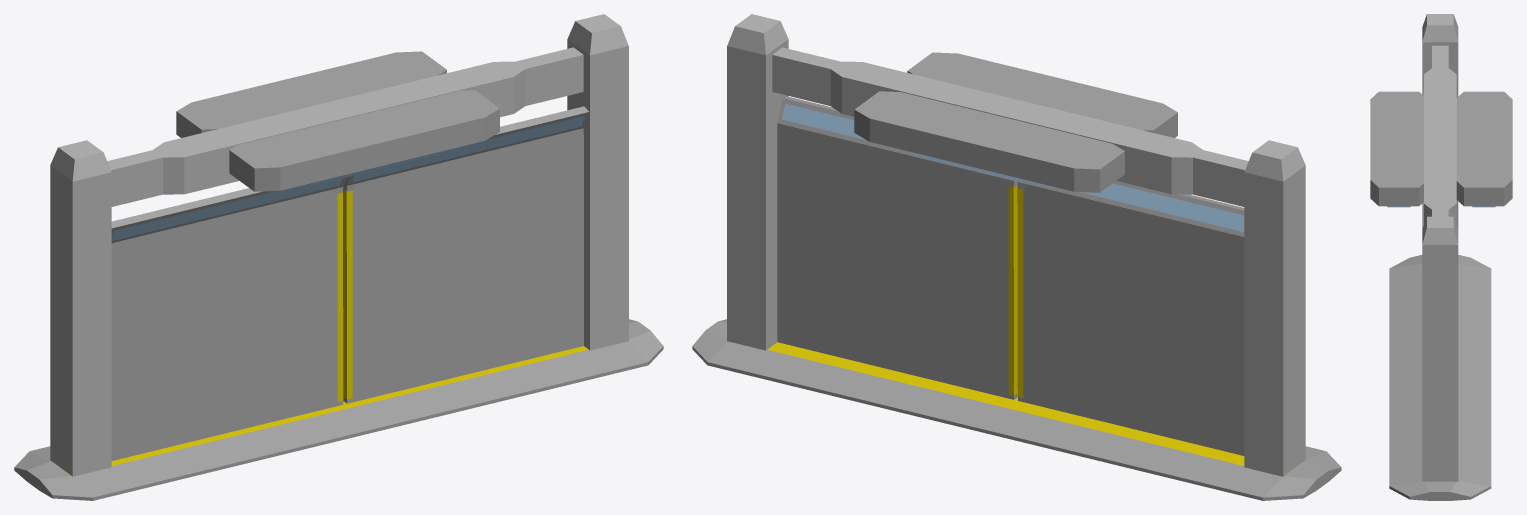
The model's file is Ограда ворота 1.fbx.
3 renders of one model, left to right at view 1: azimuth 30°, elevation 25°; view 2: azimuth 150°, elevation 25°; view 3: azimuth 270°, elevation 25°, orthographic. The views are drawn at different scales.
Visible parts, largest first — view 1: Plane.001, Plane, Cube, Cube.001, Cube.003, Cube.002, Cube.006, Cube.004; view 2: Plane.001, Plane, Cube, Cube.001, Cube.003, Cube.002, Cube.004, Cube.006; view 3: Cube, Cube.002, Cube.004, Cube.006, Cube.003, Cube.001.
Part boxes in pixels (x1,y1,x2,y2): Plane.001: [343, 106, 588, 403]; Plane: [111, 177, 346, 460]; Cube: [14, 319, 663, 500]; Cube.001: [50, 140, 111, 476]; Cube.003: [107, 47, 583, 206]; Cube.002: [567, 14, 628, 350]; Cube.006: [229, 90, 499, 191]; Cube.004: [176, 51, 446, 137]; Plane.001: [777, 96, 1017, 399]; Plane: [1017, 181, 1244, 455]; Cube: [692, 319, 1341, 500]; Cube.001: [1244, 140, 1305, 476]; Cube.003: [772, 47, 1248, 206]; Cube.002: [727, 14, 788, 350]; Cube.004: [854, 91, 1124, 192]; Cube.006: [907, 52, 1177, 137]; Cube: [1389, 255, 1491, 500]; Cube.002: [1422, 216, 1458, 481]; Cube.004: [1456, 91, 1512, 207]; Cube.006: [1370, 91, 1423, 207]; Cube.003: [1424, 45, 1456, 223]; Cube.001: [1422, 14, 1458, 228].
Bounding box in the file's own units: 690 × 351 × 174.
